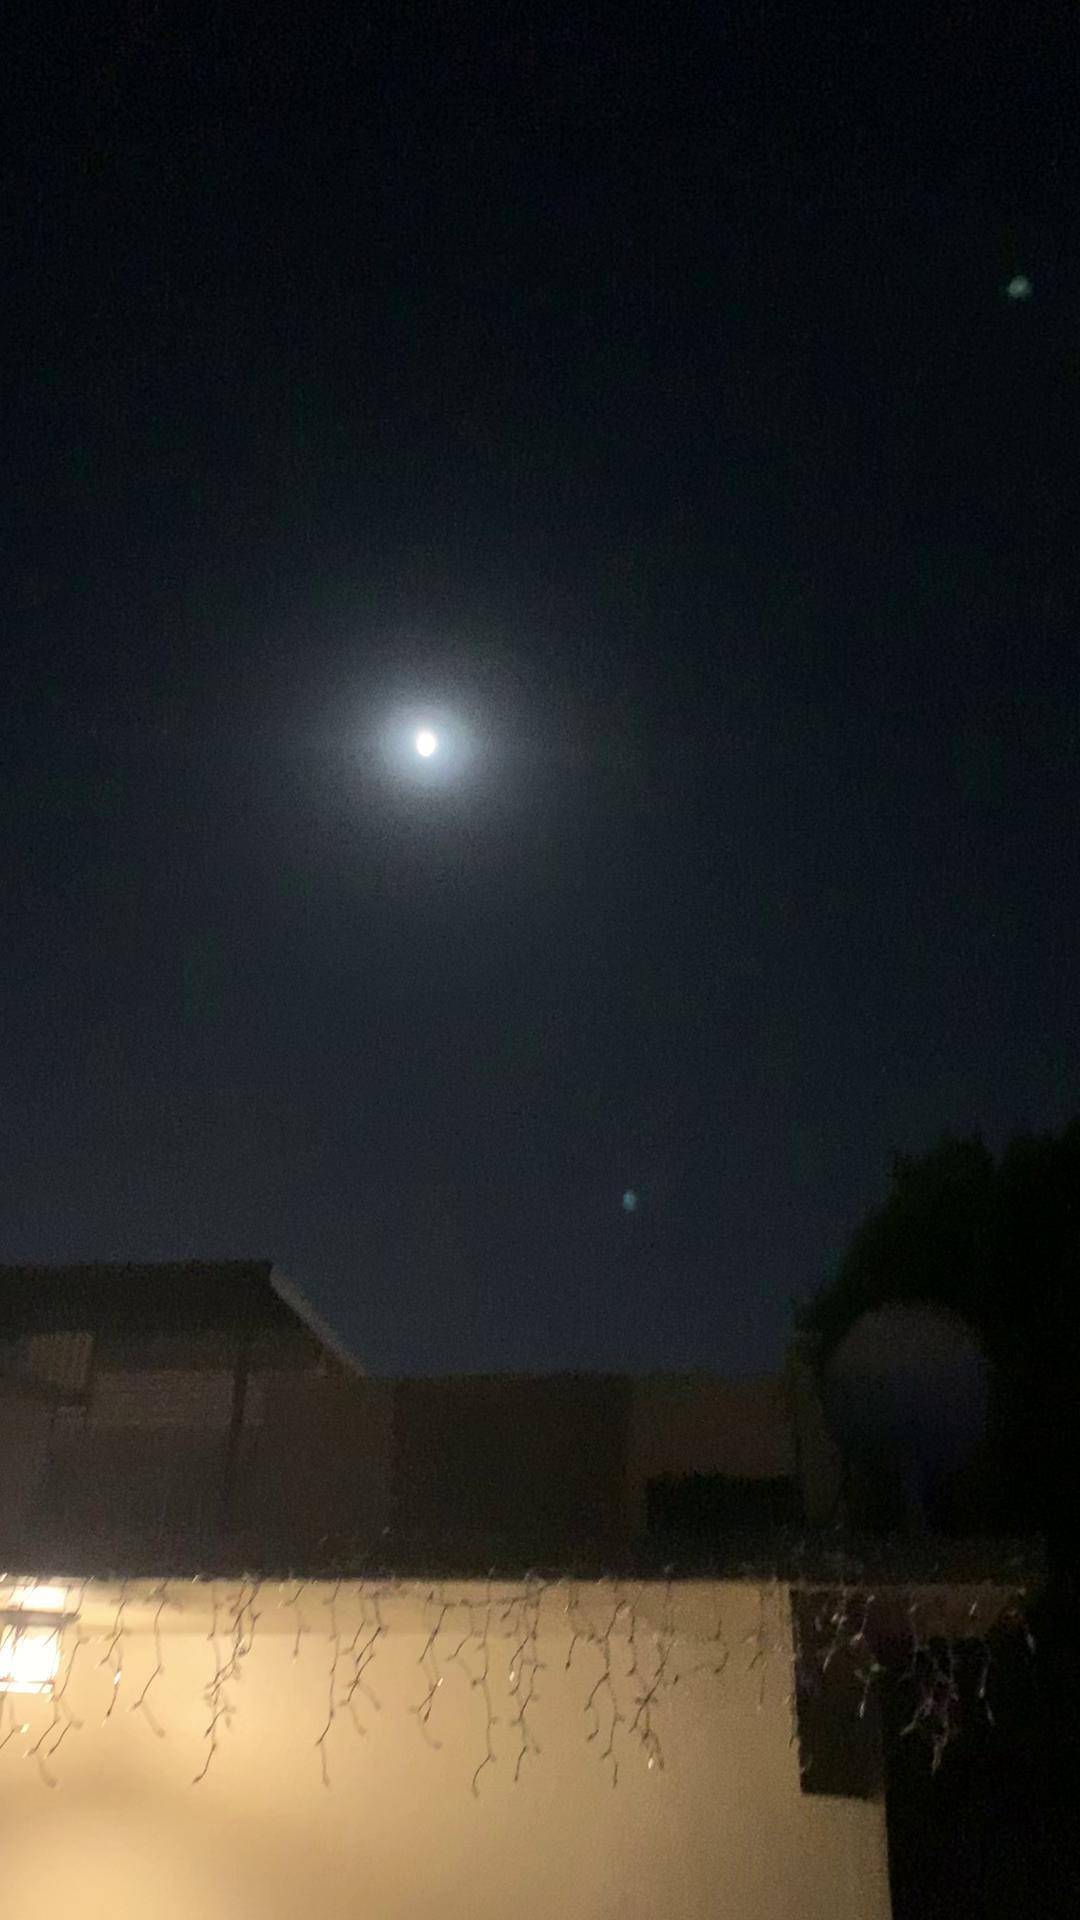moon: (388, 702, 475, 781)
